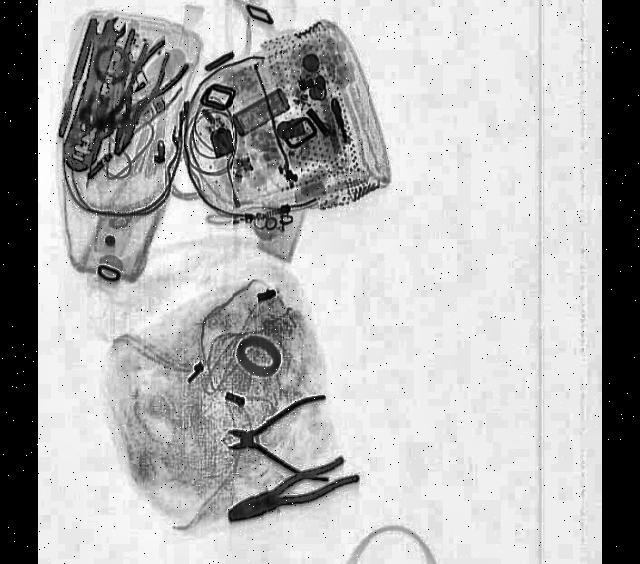Pliers: (54, 9, 146, 179), (224, 447, 362, 532), (230, 392, 330, 480), (103, 39, 173, 164)
Wrench: (82, 10, 130, 104)
